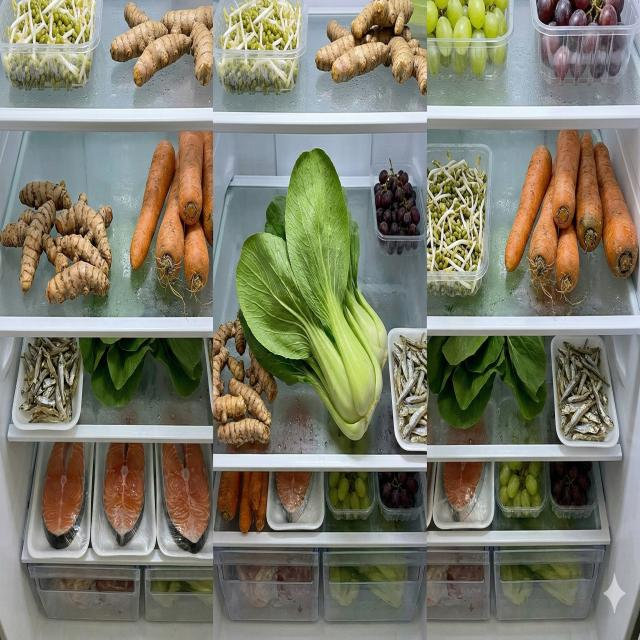anchovies: (556, 337, 615, 442), (19, 337, 81, 424), (392, 332, 427, 444)
carrot: (505, 128, 638, 296), (130, 131, 213, 293), (218, 472, 269, 534)
fish: (160, 442, 212, 555), (41, 443, 87, 549), (102, 443, 146, 548), (443, 463, 487, 523), (276, 471, 314, 524)
grape: (537, 0, 628, 81), (427, 0, 508, 78), (374, 158, 421, 255), (500, 462, 543, 518), (330, 472, 370, 521), (380, 472, 420, 509)
pakchoy: (235, 148, 388, 443)
turmeric: (0, 179, 113, 306), (315, 0, 427, 95), (110, 3, 213, 87), (214, 313, 278, 447)
